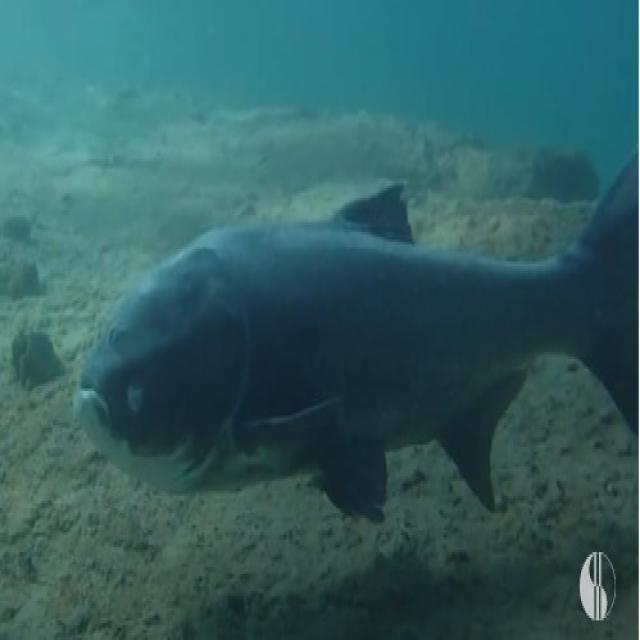Big-Head-Carp: (13, 31, 639, 556)
